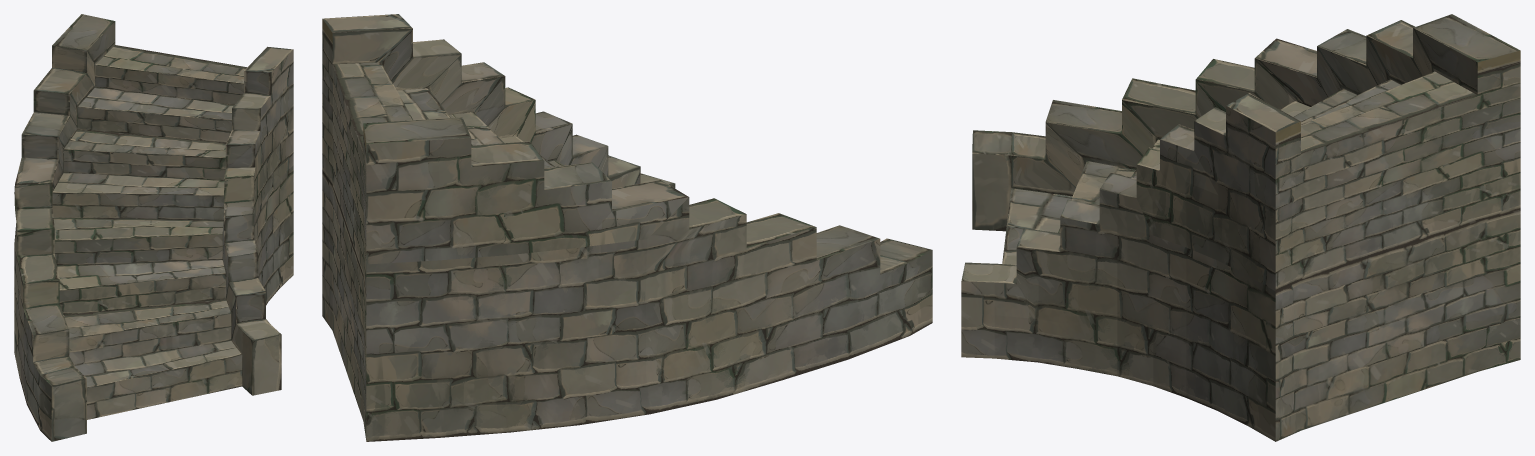
File: C_Stair03.fbx
3 views of the same model, side by side, from view 1: azimuth 30°, elevation 25°; view 2: azimuth 150°, elevation 25°; view 3: azimuth 270°, elevation 25° (orthographic). The views are drawn at different scales.
Visible parts, largest first — view 1: C_Stair03; view 2: C_Stair03; view 3: C_Stair03.
Part boxes in pixels (x1,y1,x2,y2): C_Stair03: (14,14,293,441); C_Stair03: (322,14,932,441); C_Stair03: (961,14,1520,441).
Size of the model in its own units: 321 by 196 by 321.
